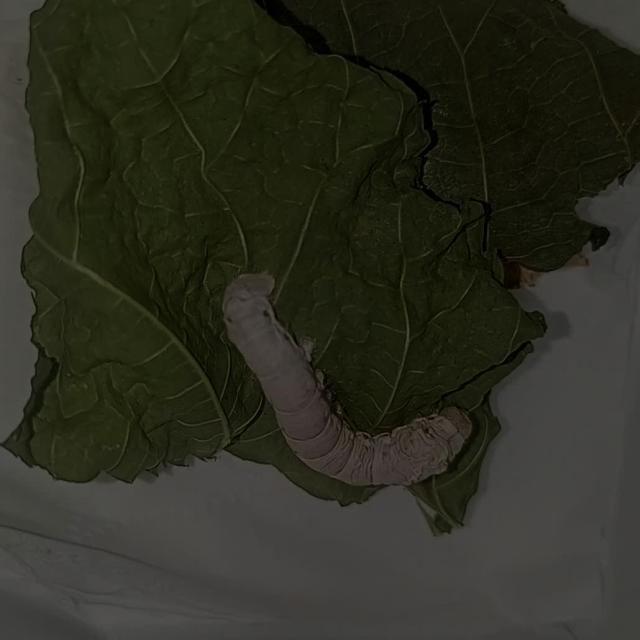Healthy: (193, 236, 498, 516)
